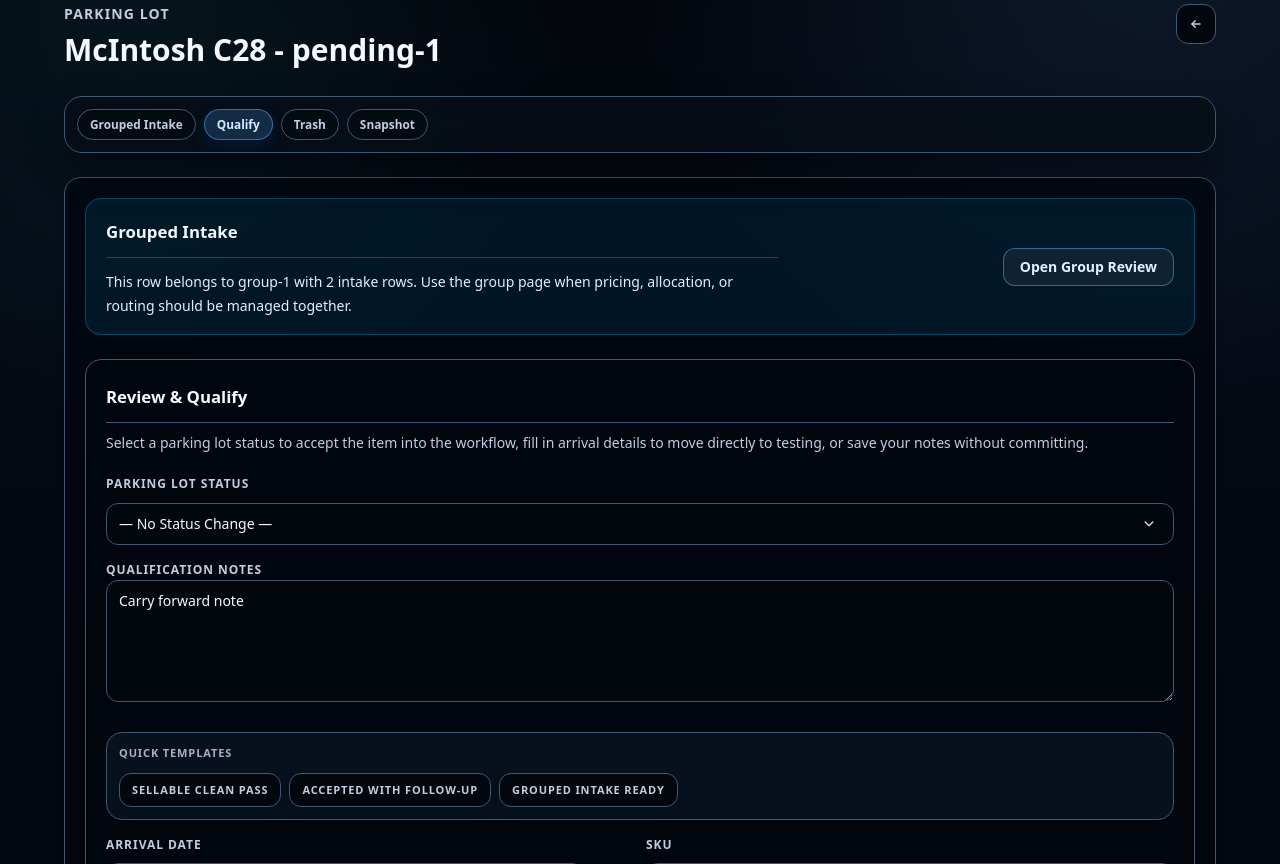
UsedGearPendingReviewRecordPage › applies shared note templates for qualification and unqualify actions
expect the heading "Review & Qualify" is shown: met, box [106,384,247,410]
Step 1. Click the button "Sellable Clean Pass" → (200, 790), box [119,773,281,807]
(page scrolled)
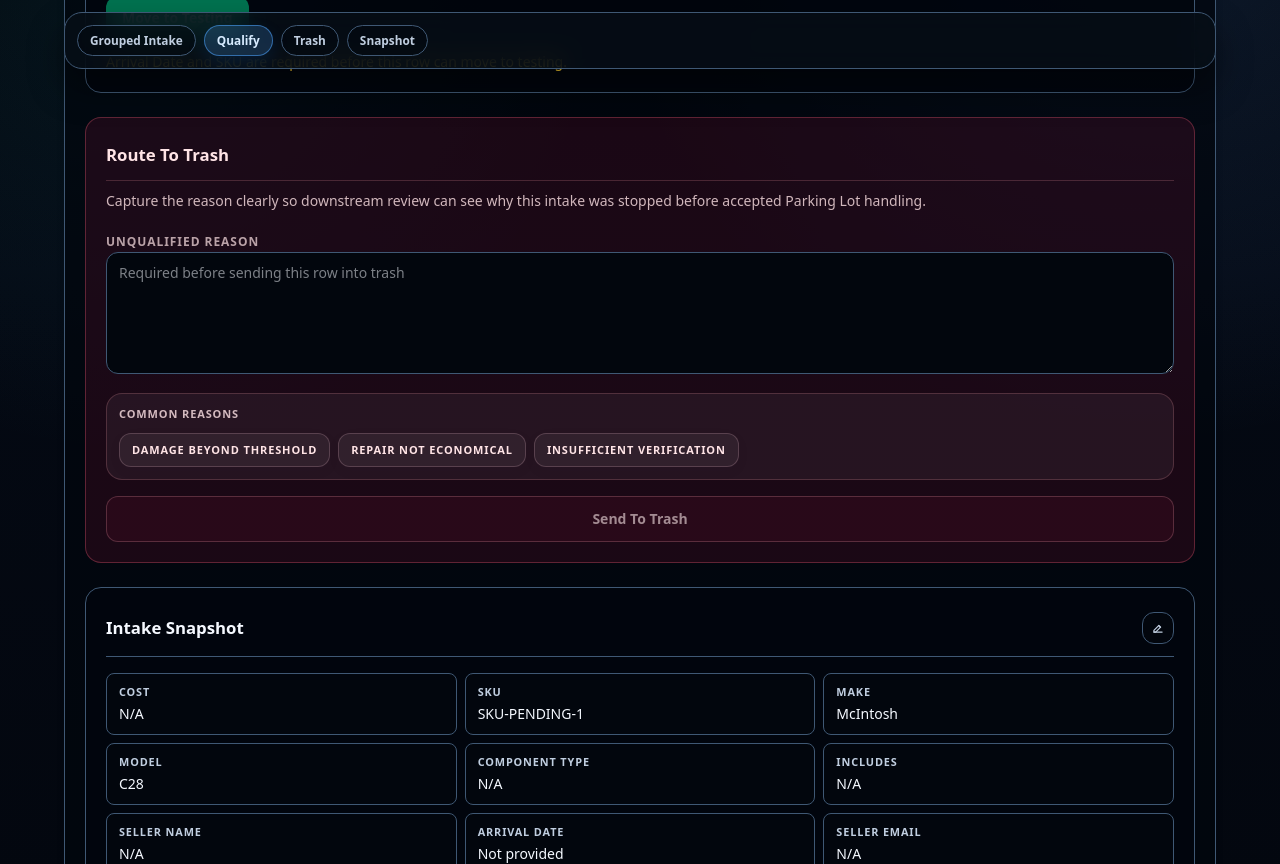
Step 2. Click the button "Repair Not Economical" → (432, 450), box [338,434,526,467]
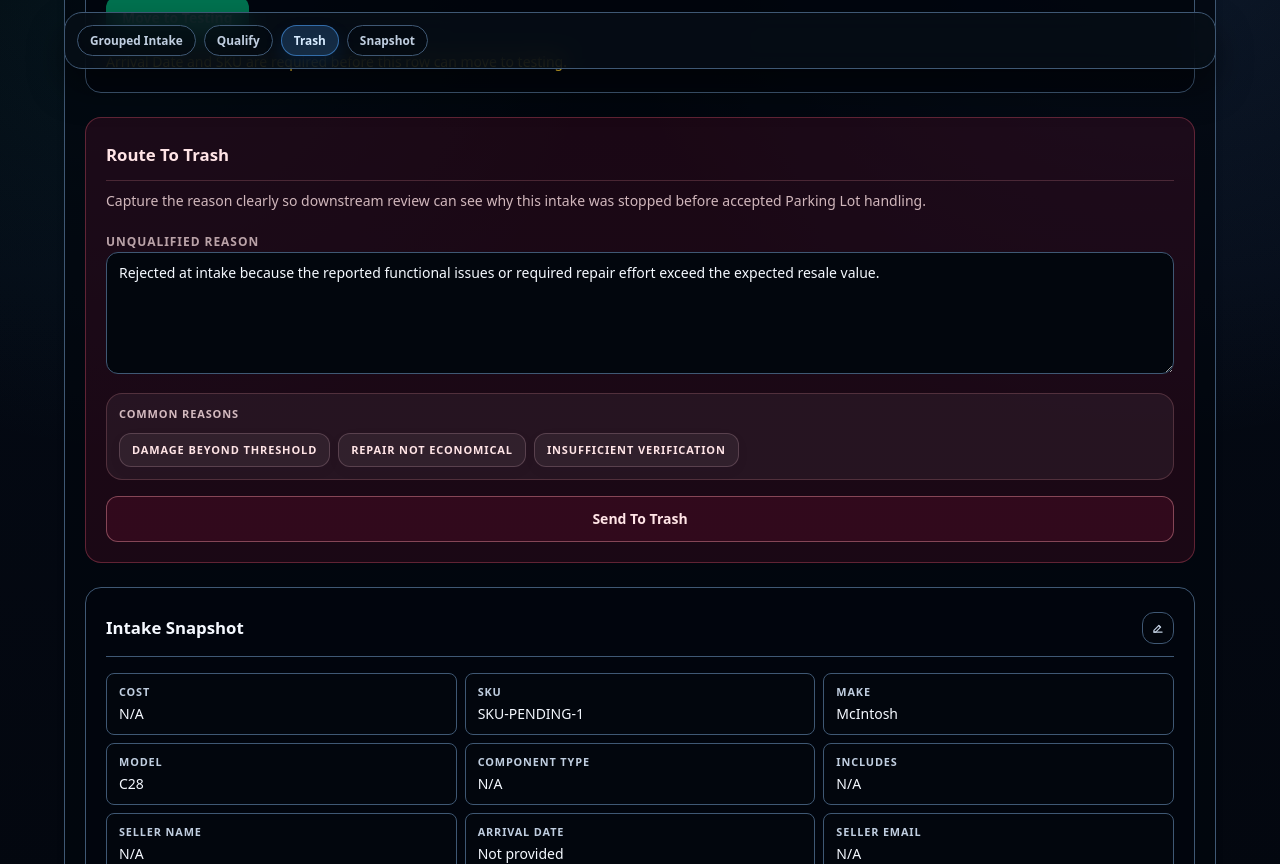
expect the text box labelled "Unqualified Reason" holds "Rejected at intake because the reported functional issues or required repair effort exceed the expected resale value.": met, box [106,252,1174,374]
